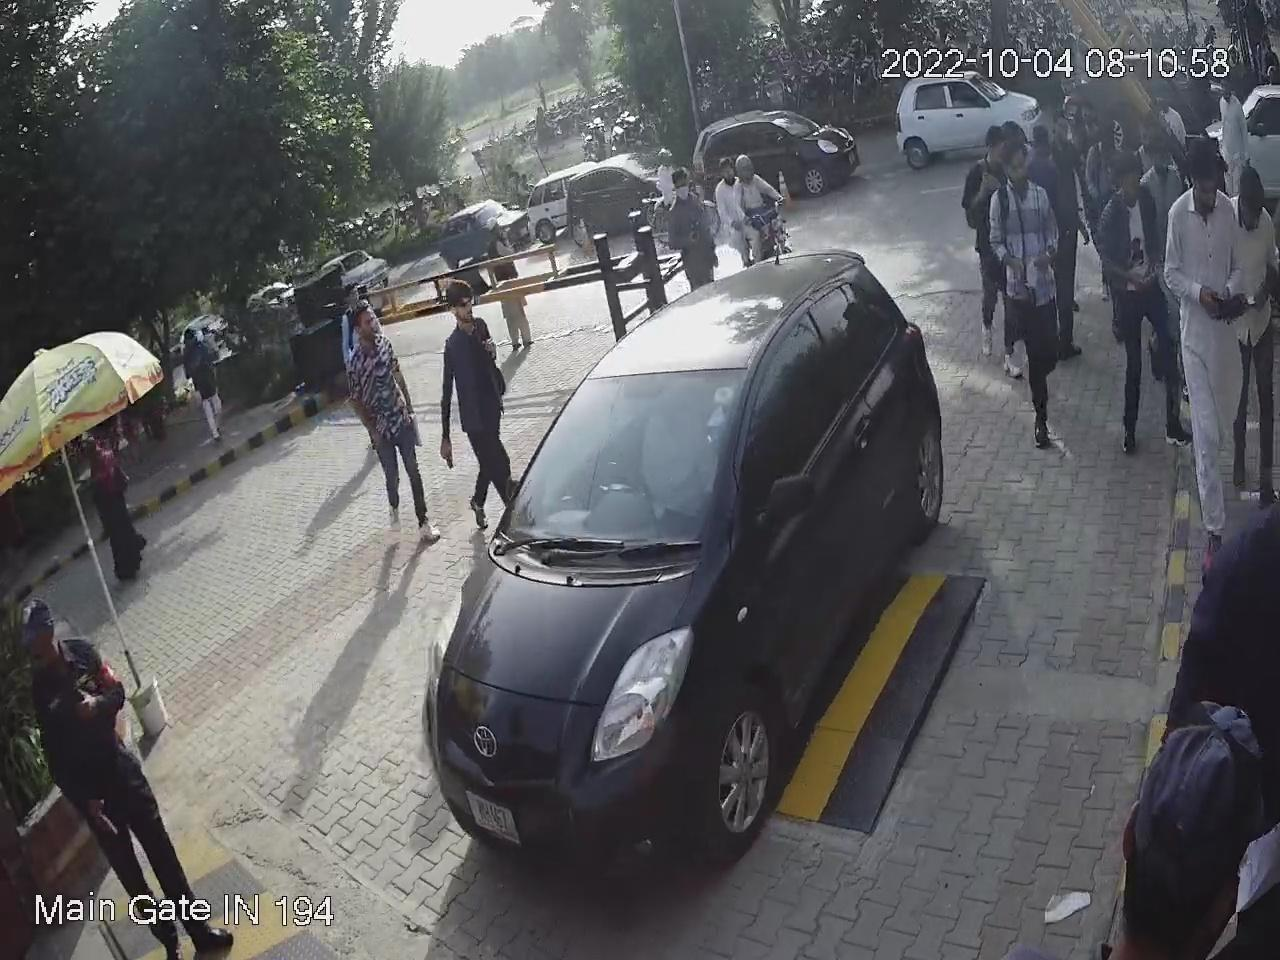windshield: (493, 362, 749, 558)
